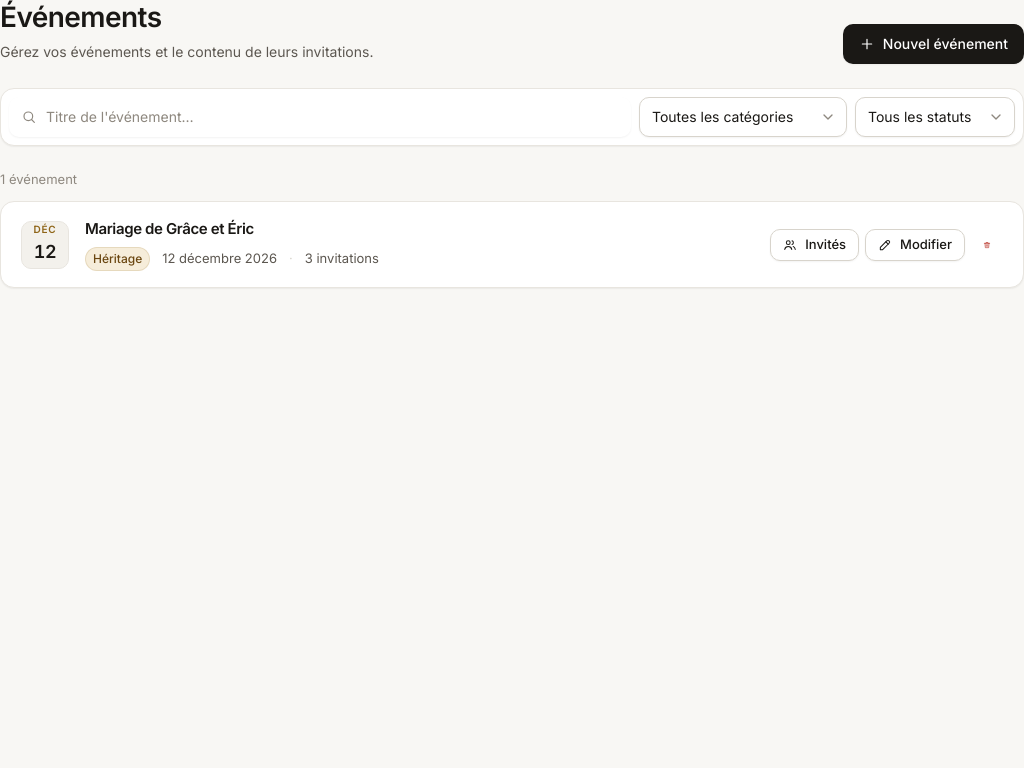
Test: EventsPage › deletes an event after confirmation
The image size is (1024, 768).
Click the button named "Supprimer".
click(987, 244)  # box [971, 228, 1003, 260]
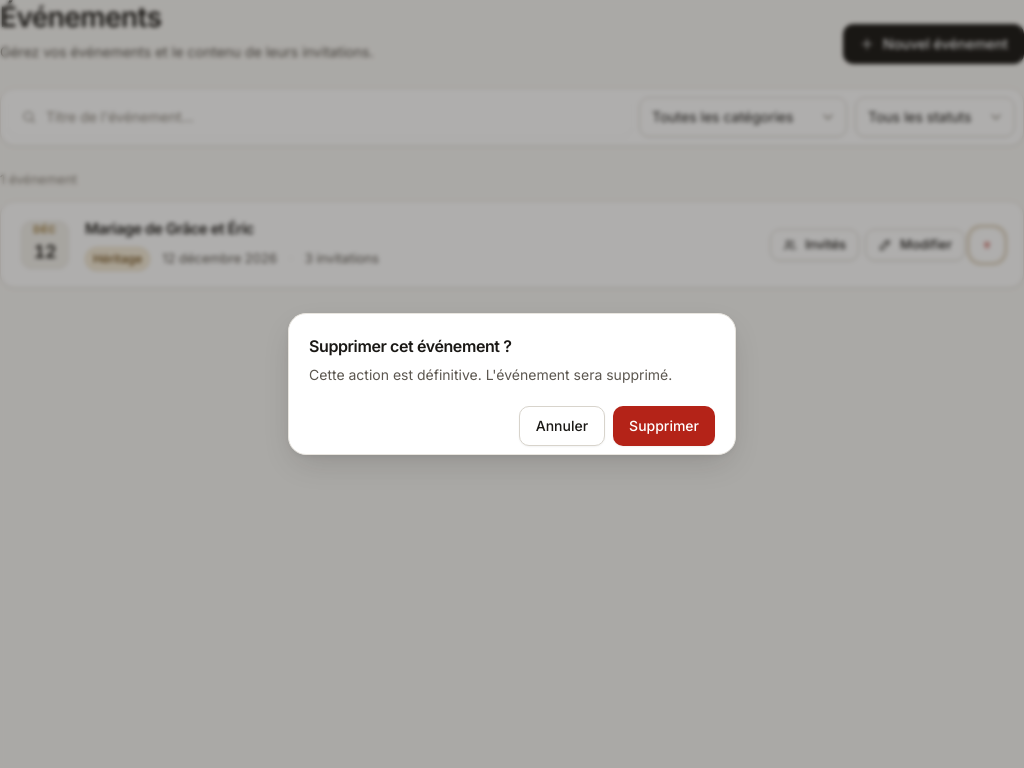
Expected: the dialog is shown, [288, 313, 736, 455]
Expected: the text "Cette action est définitive. L'événement sera supprimé." is shown, [309, 364, 715, 386]
Click the button "Supprimer".
click(664, 426)  # box [613, 406, 715, 446]
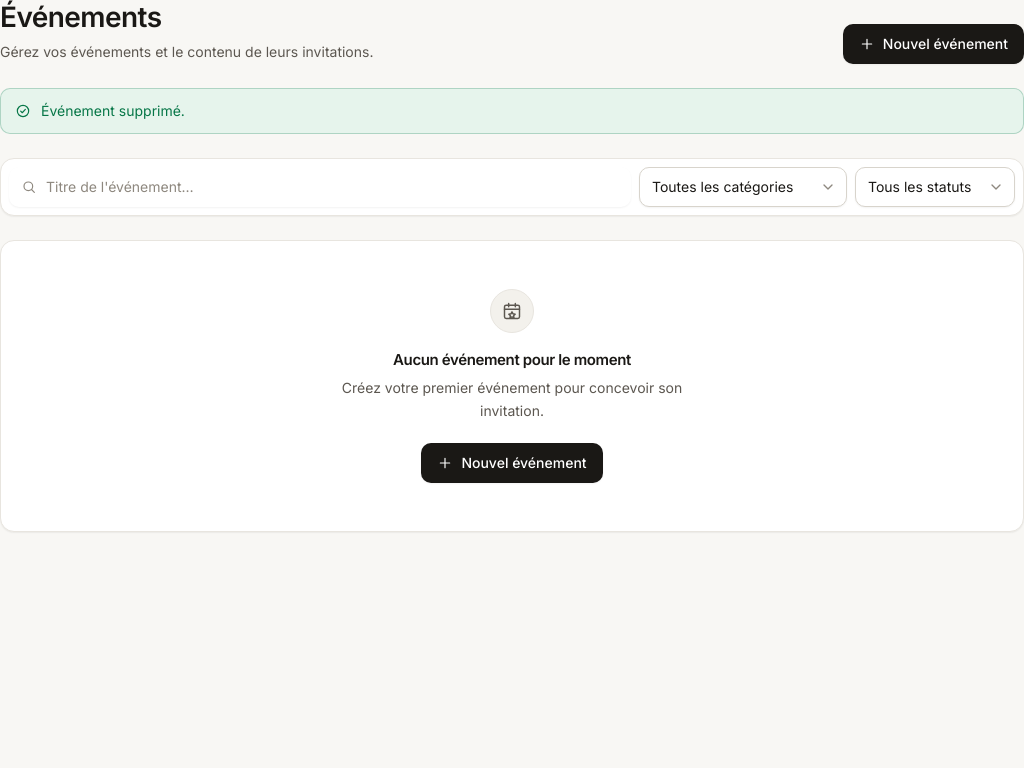
Expected: the text "Événement supprimé." is shown, [41, 101, 185, 121]
